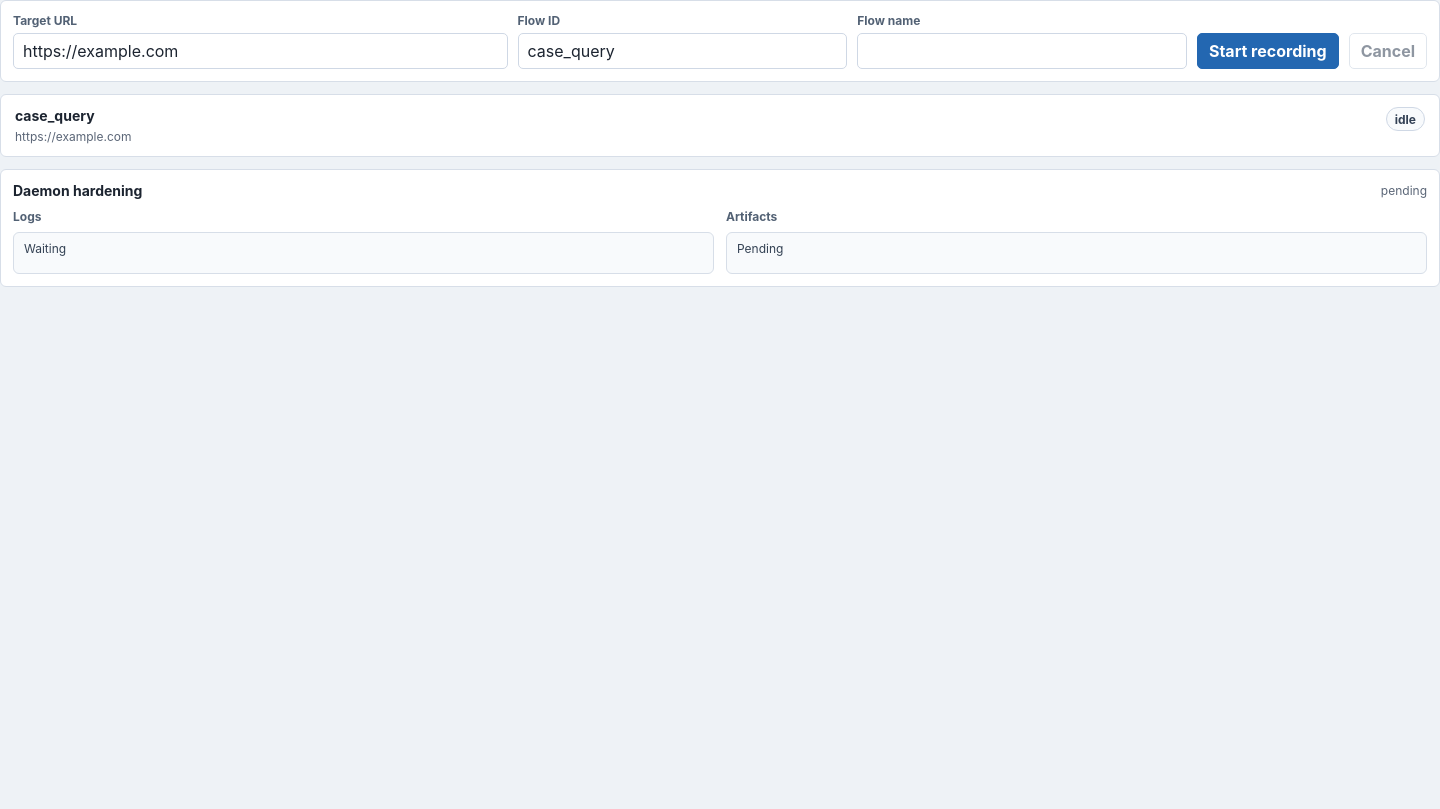
Test case: CodegenWorkspace › opens hardened flows in the runtime verification workspace and blocks auto-start until params are filled
Click the button "Start recording" at (1268, 51), box [1197,33,1339,69]
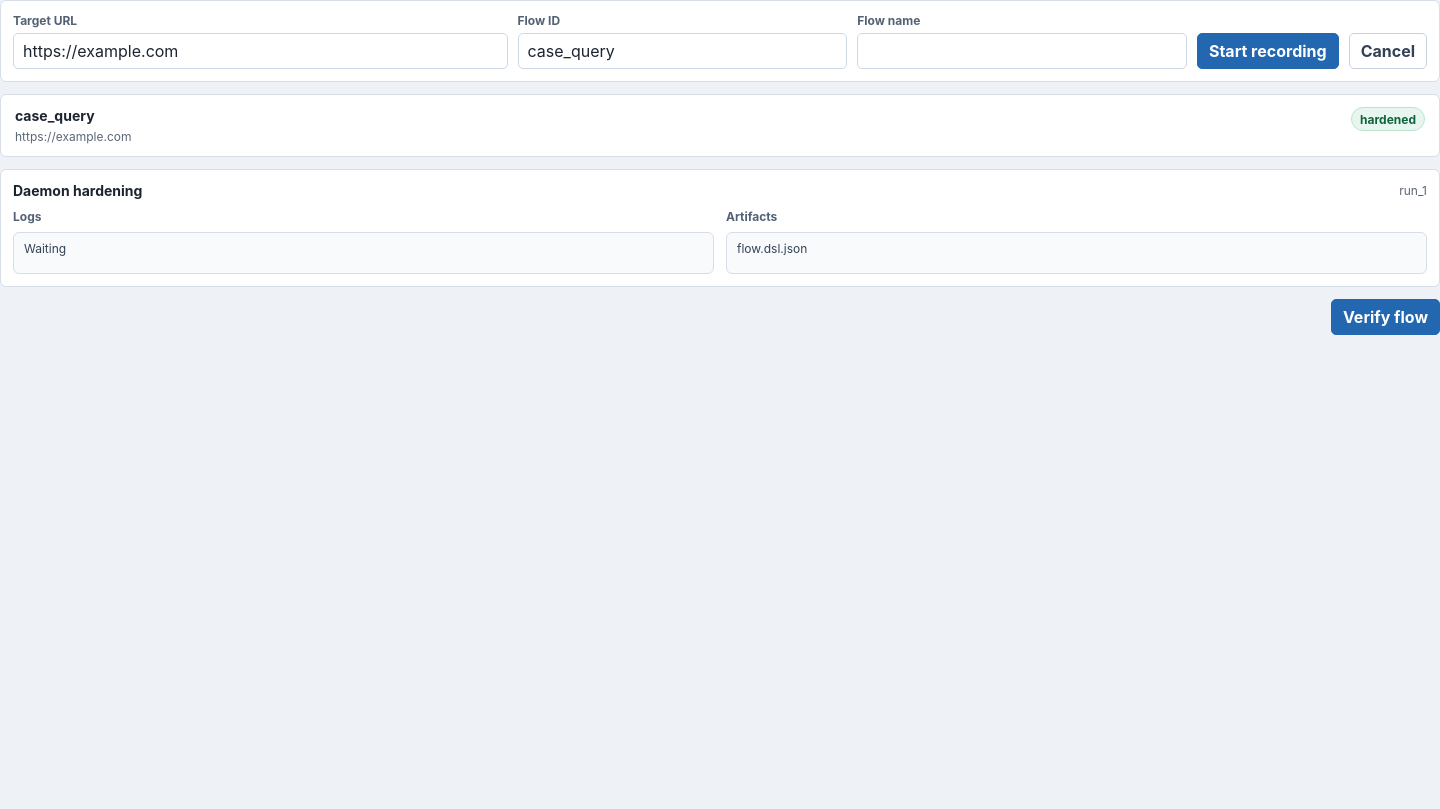
Click the button "Verify flow" at (1385, 317), box [1331,299,1439,335]
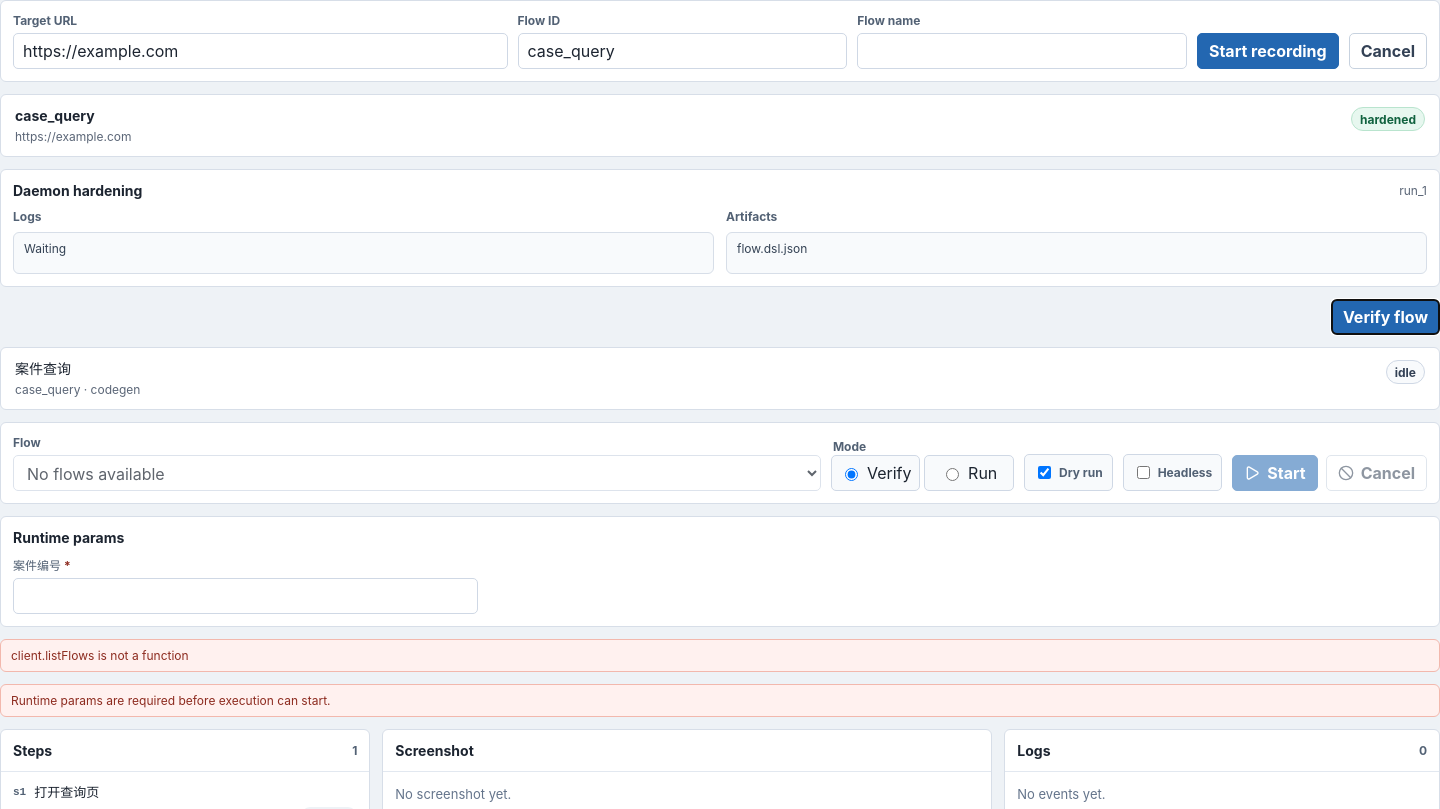
expect the text "Runtime params are required before execution can start." is shown: met, box [0,684,1439,717]
